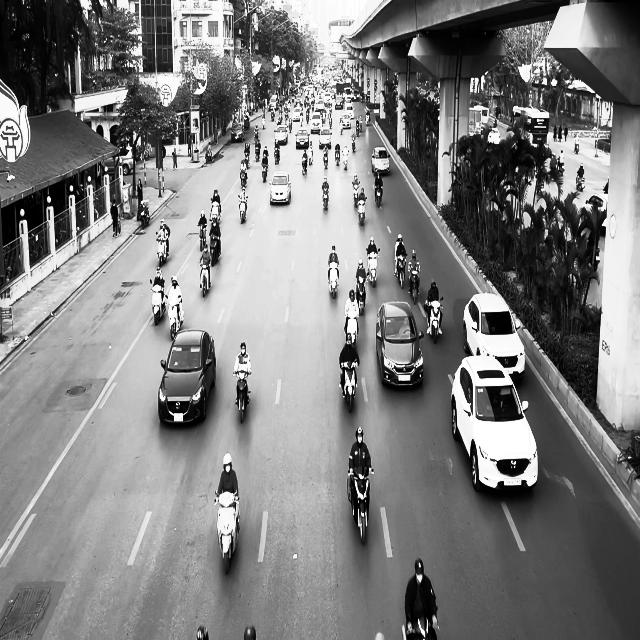bus: (512, 105, 550, 156), (468, 104, 489, 138)
car: (447, 355, 538, 493), (463, 291, 525, 383), (158, 328, 216, 425), (376, 300, 424, 389), (270, 171, 291, 205), (371, 146, 390, 174), (295, 128, 309, 148), (230, 122, 244, 142), (274, 125, 288, 145)
motorbike: (214, 493, 240, 574), (347, 467, 374, 545), (401, 605, 439, 639), (339, 361, 358, 412), (424, 296, 444, 344), (233, 370, 251, 422), (165, 295, 184, 340), (150, 278, 166, 326), (344, 310, 359, 348), (366, 247, 380, 287), (156, 228, 170, 267), (199, 258, 211, 297), (408, 265, 420, 303), (355, 274, 366, 315), (327, 261, 339, 298), (209, 230, 221, 266), (394, 254, 406, 288), (139, 200, 150, 228), (238, 194, 248, 223), (357, 197, 366, 225), (198, 224, 207, 252), (374, 184, 383, 207), (322, 143, 329, 168), (352, 182, 359, 205), (322, 187, 329, 210), (261, 161, 268, 182), (576, 173, 584, 191), (302, 155, 308, 176)
